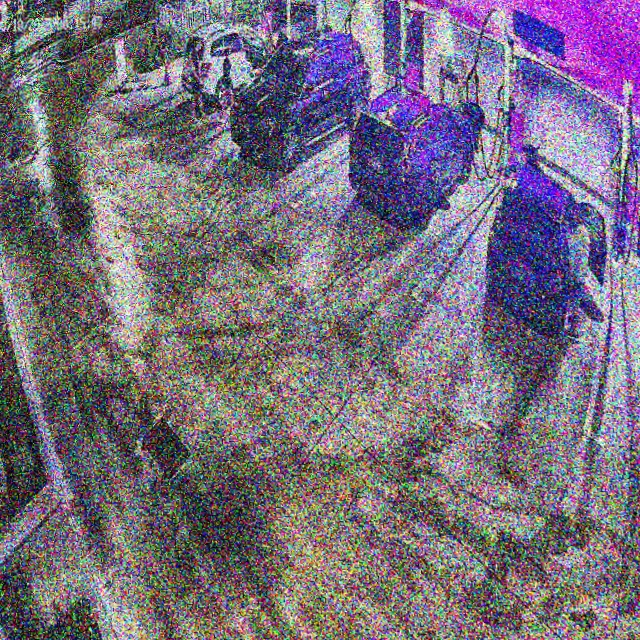Car: (346, 87, 483, 232)
